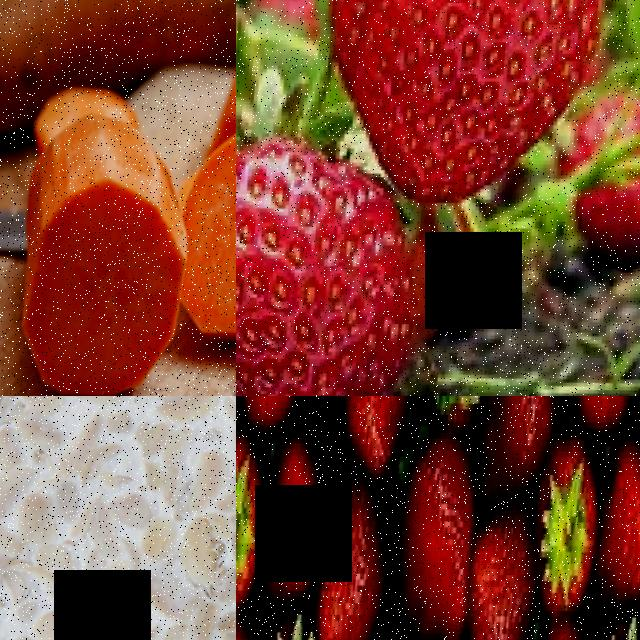strawberry: (312, 0, 621, 187), (236, 122, 387, 396), (383, 428, 484, 640), (522, 436, 605, 623), (304, 476, 392, 640), (250, 433, 326, 612), (470, 396, 560, 528), (236, 434, 268, 622), (405, 396, 497, 439), (558, 396, 640, 440)
tempeh: (0, 396, 236, 640)
